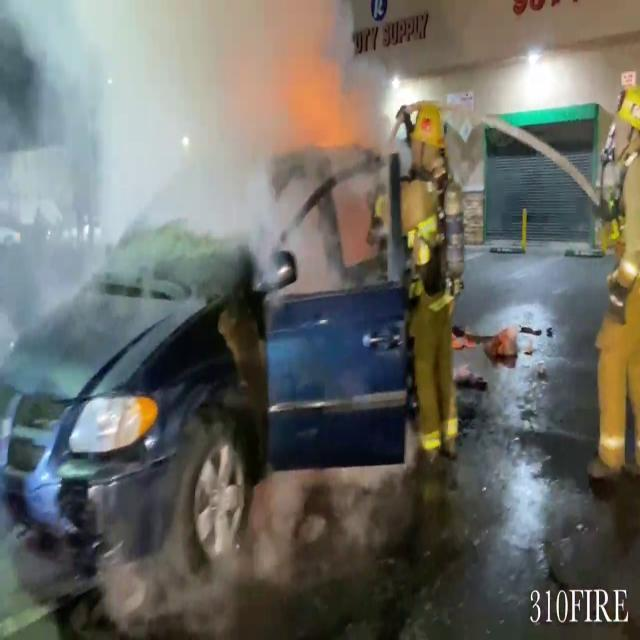Smoke: (0, 0, 402, 316)
